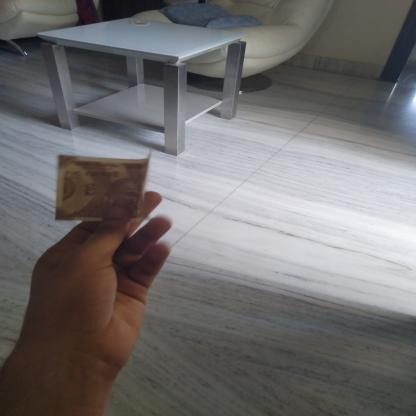New10Front: (56, 157, 145, 221)
